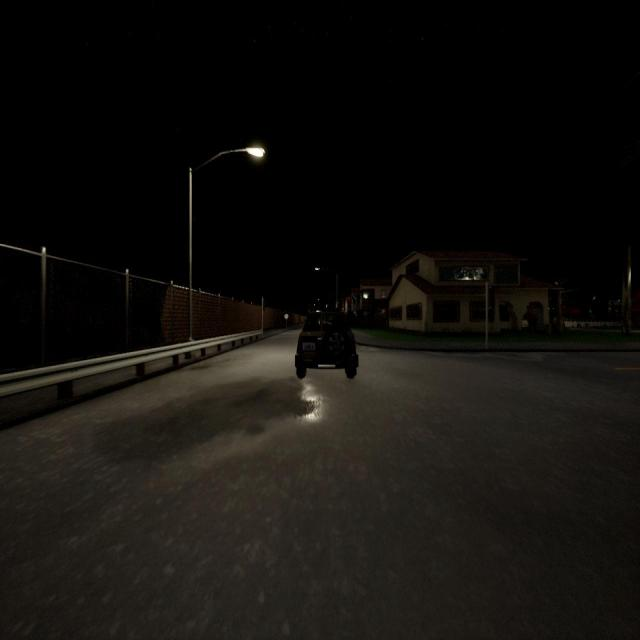Traffic_Signs: (284, 314, 289, 320)
Vehicle: (295, 310, 358, 378)
traffic_light: (488, 288, 493, 306)
